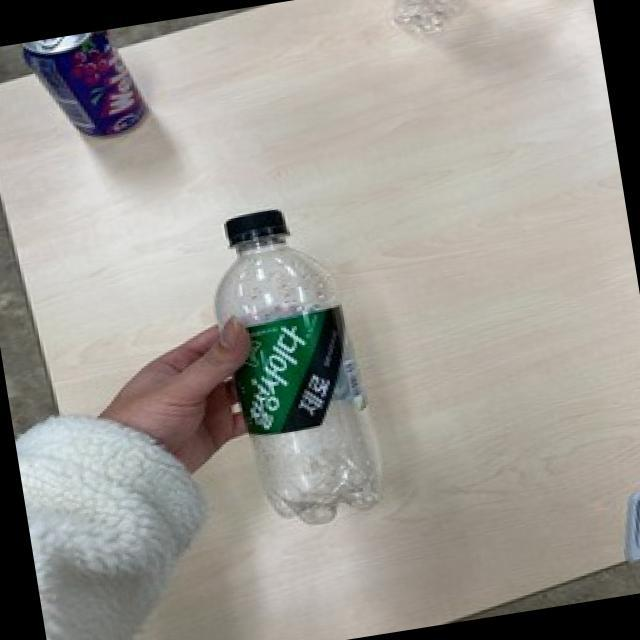good: (194, 189, 396, 542)
